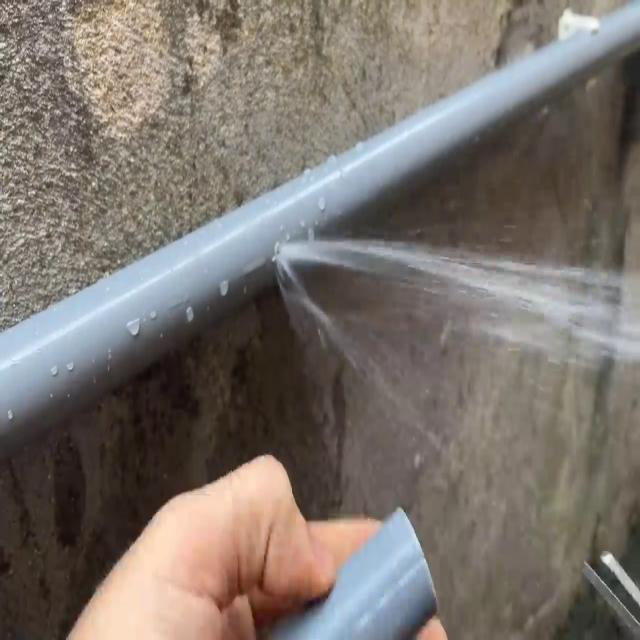leak: (270, 237, 640, 368)
